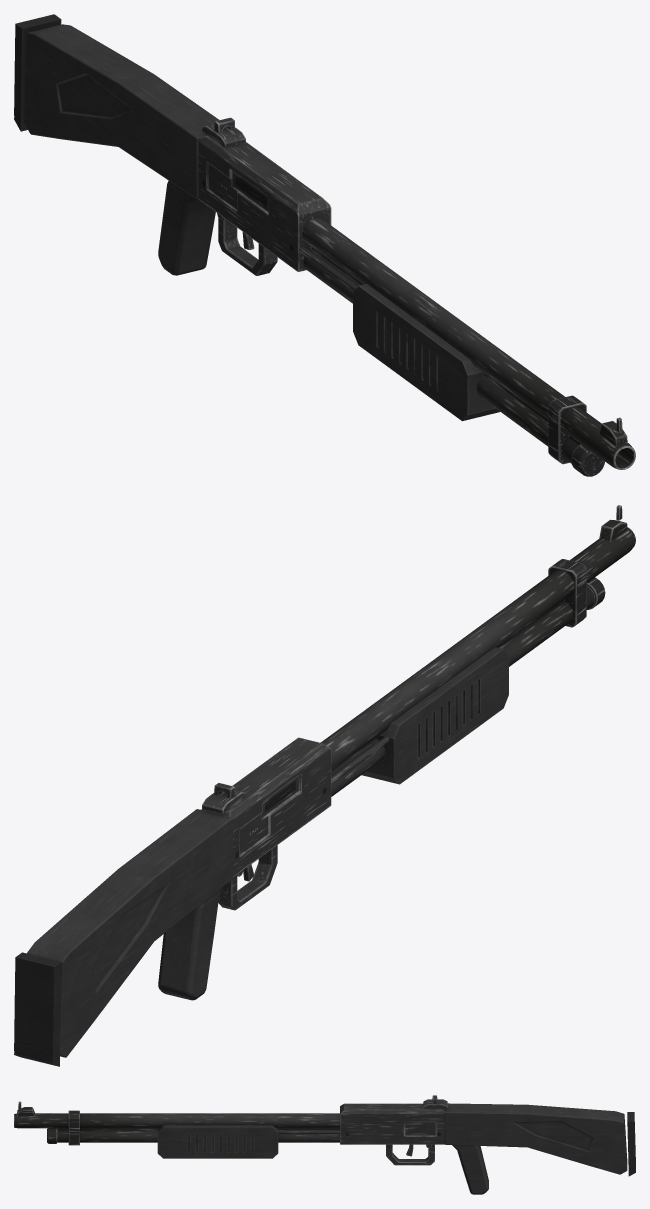
File: pump_shotgun.glb
3 views of the same model, one above another, from view 1: azimuth 30°, elevation 25°; view 2: azimuth 150°, elevation 25°; view 3: azimuth 270°, elevation 25° (orthographic). The views are drawn at different scales.
Parts seen in each view (by area): view 1: body, rear_sight; view 2: body, rear_sight; view 3: body, rear_sight.
Part boxes in pixels (x1,y1,x2,y2): body: (14,14,635,476); rear_sight: (202,117,245,148); body: (14,505,635,1066); rear_sight: (202,783,245,814); body: (14,1101,635,1194); rear_sight: (423,1095,447,1108).
Size of the model in its own units: 0.035 by 0.144 by 0.866.
Materials: 1 (1 with a texture image).
